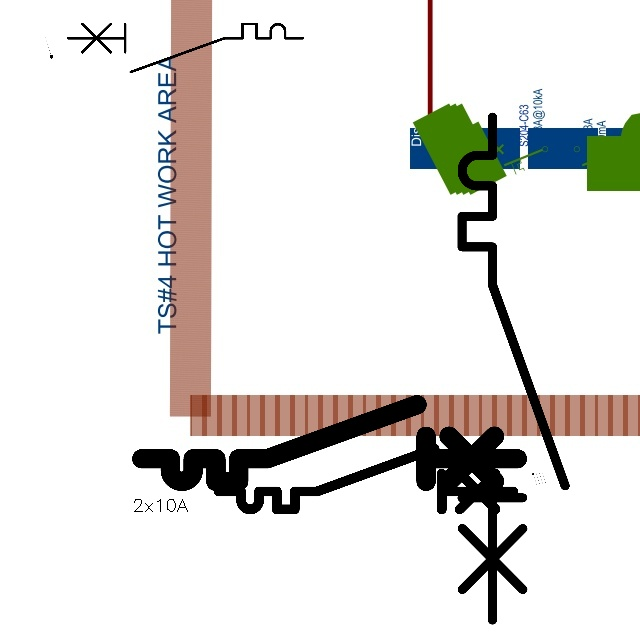interruptor_termomagnetico: (449, 104, 578, 632), (132, 395, 527, 491), (211, 441, 520, 517), (61, 18, 308, 78)
